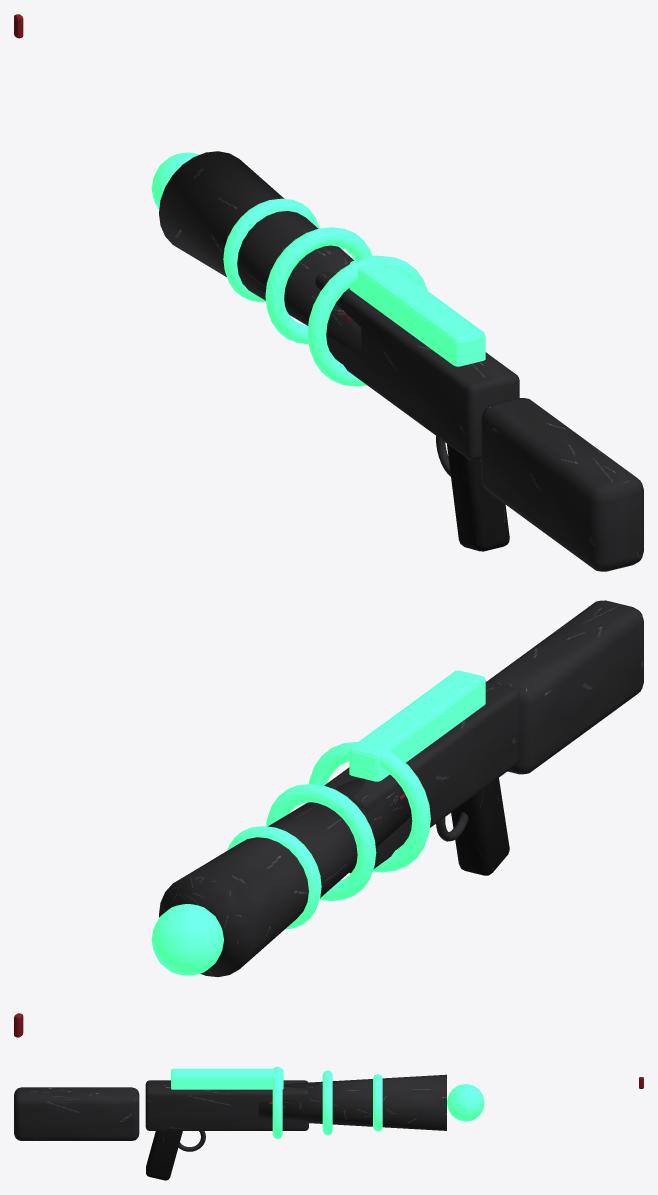
File: weapon-rift.glb
The picture shows the model from 3 angles, top to bottom: view 1: azimuth 30°, elevation 25°; view 2: azimuth 150°, elevation 25°; view 3: azimuth 270°, elevation 25°; orthographic projection. The views are drawn at different scales.
Visible parts, largest first — view 1: Cube.002, Cone, Cube, Cube.001, Cube.003, RiftRing1, RiftRing0, RiftRing2, RiftCore; view 2: Cone, Cube.002, Cube, Cube.001, RiftCore, RiftRing0, RiftRing1, Cube.003, RiftRing2; view 3: Cone, Cube.002, Cube, Cube.001, Cube.003, RiftCore, RiftRing0, RiftRing1, RiftRing2, Torus.004.
Boxes of the visible parts, left/top/right/bottom form: Cube.002: left=481, top=398, right=643, bottom=571; Cone: left=159, top=151, right=361, bottom=353; Cube: left=315, top=271, right=519, bottom=460; Cube.001: left=349, top=255, right=485, bottom=366; Cube.003: left=447, top=444, right=509, bottom=551; RiftRing1: left=265, top=227, right=372, bottom=344; RiftRing0: left=307, top=256, right=427, bottom=386; RiftRing2: left=223, top=198, right=319, bottom=302; RiftCore: left=151, top=152, right=199, bottom=209; Cone: left=159, top=778, right=411, bottom=976; Cube.002: left=487, top=600, right=643, bottom=774; Cube: left=324, top=681, right=519, bottom=873; Cube.001: left=349, top=670, right=485, bottom=781; RiftCore: left=151, top=904, right=223, bottom=975; RiftRing0: left=309, top=742, right=430, bottom=872; RiftRing1: left=266, top=784, right=376, bottom=900; Cube.003: left=451, top=778, right=509, bottom=875; RiftRing2: left=227, top=826, right=321, bottom=929; Cone: left=258, top=1074, right=446, bottom=1130; Cube.002: left=14, top=1087, right=139, bottom=1140; Cube: left=145, top=1080, right=308, bottom=1130; Cube.001: left=171, top=1068, right=283, bottom=1089; Cube.003: left=146, top=1131, right=182, bottom=1180; RiftCore: left=447, top=1084, right=484, bottom=1121; RiftRing0: left=272, top=1066, right=282, bottom=1138; RiftRing1: left=322, top=1070, right=332, bottom=1135; RiftRing2: left=373, top=1074, right=382, bottom=1131; Torus.004: left=178, top=1131, right=205, bottom=1151.
Size of the model in its own units: 0.116 by 0.1897 by 1.
4 materials, 2 textured.
